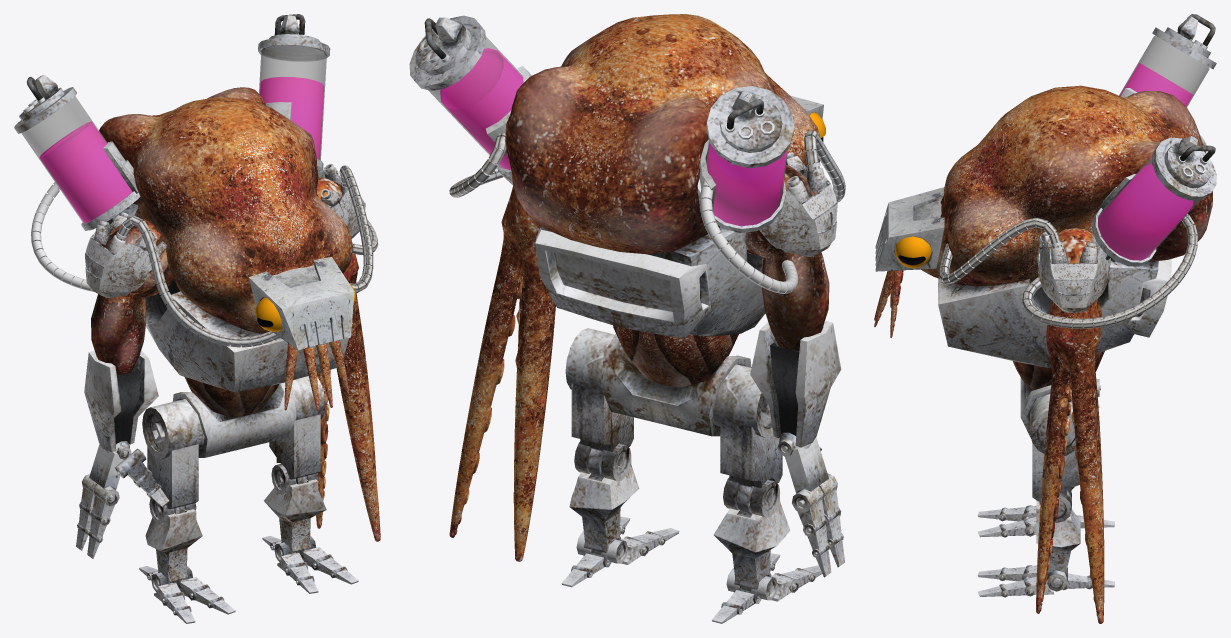
The model's file is Boss01.fbx.
3 renders of one model, left to right at view 1: azimuth 30°, elevation 25°; view 2: azimuth 150°, elevation 25°; view 3: azimuth 270°, elevation 25°, orthographic. The views are drawn at different scales.
Parts seen in each view (by area): view 1: Boss, glass.000, liquid.000, junta01, junta01.002, junta01.001; view 2: Boss, glass.000, liquid.000, junta01.001, junta01, junta01.003; view 3: Boss, glass.000, liquid.000, junta01.003, junta01.002.
Boxes of the visible parts, x1=… form: Boss: x1=14, y1=14, x2=380, y2=623; glass.000: x1=21, y1=45, x2=326, y2=223; liquid.000: x1=39, y1=77, x2=323, y2=222; junta01: x1=116, y1=215, x2=279, y2=347; junta01.002: x1=339, y1=165, x2=373, y2=293; junta01.001: x1=31, y1=182, x2=93, y2=291; Boss: x1=409, y1=14, x2=844, y2=623; glass.000: x1=428, y1=36, x2=788, y2=226; liquid.000: x1=440, y1=48, x2=786, y2=226; junta01.001: x1=699, y1=175, x2=798, y2=293; junta01: x1=804, y1=130, x2=845, y2=202; junta01.003: x1=449, y1=133, x2=506, y2=197; Boss: x1=874, y1=14, x2=1216, y2=623; glass.000: x1=1098, y1=35, x2=1209, y2=260; liquid.000: x1=1098, y1=63, x2=1192, y2=260; junta01.003: x1=1022, y1=213, x2=1197, y2=328; junta01.002: x1=939, y1=217, x2=1061, y2=284.
Size of the model in its own units: 1218 by 1136 by 1754.
